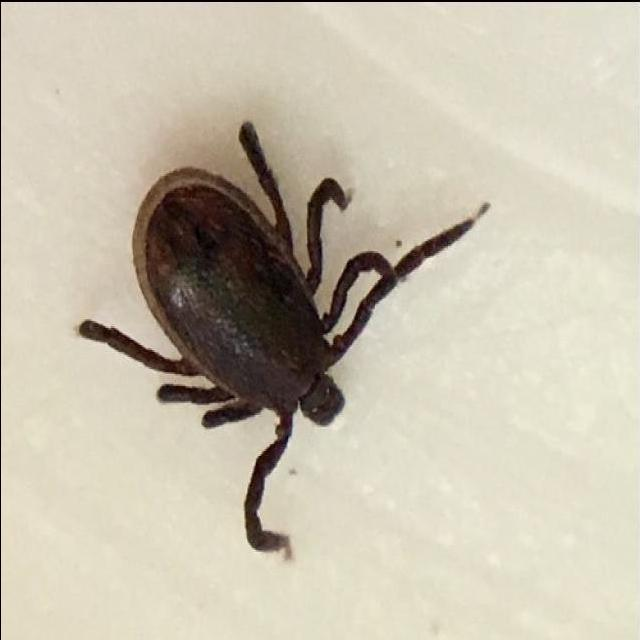Ixodes Ricinus-M: (77, 119, 489, 551)
